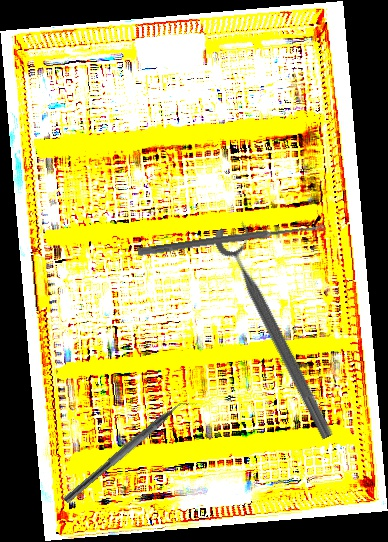Chopper: (62, 390, 199, 513)
Fixation Ring: (209, 217, 351, 443)
Surgical Spoon: (137, 221, 326, 258)
